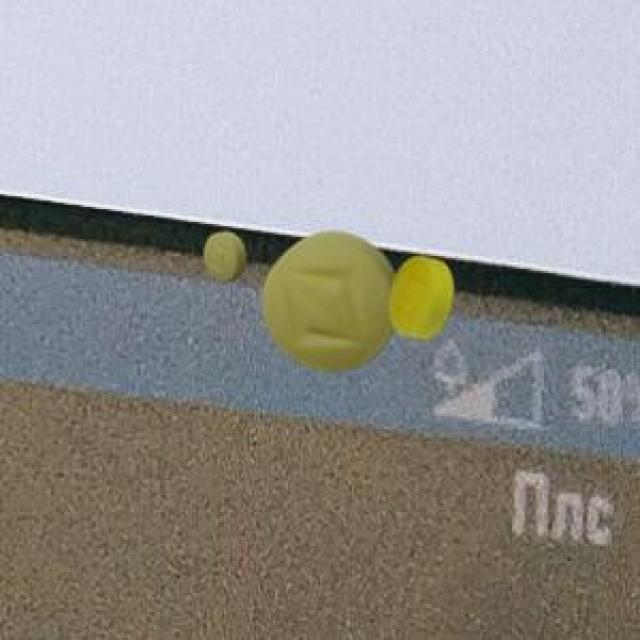Decolgen: (256, 225, 468, 384), (201, 225, 251, 297)
